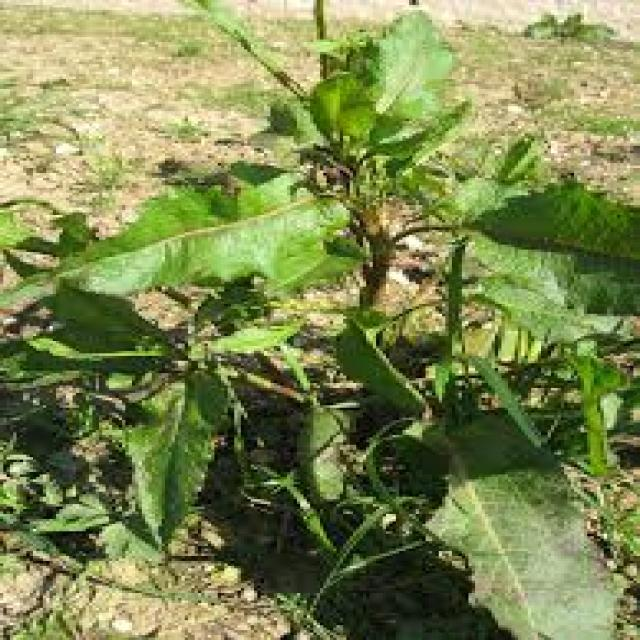organic waste: (66, 0, 640, 591)
